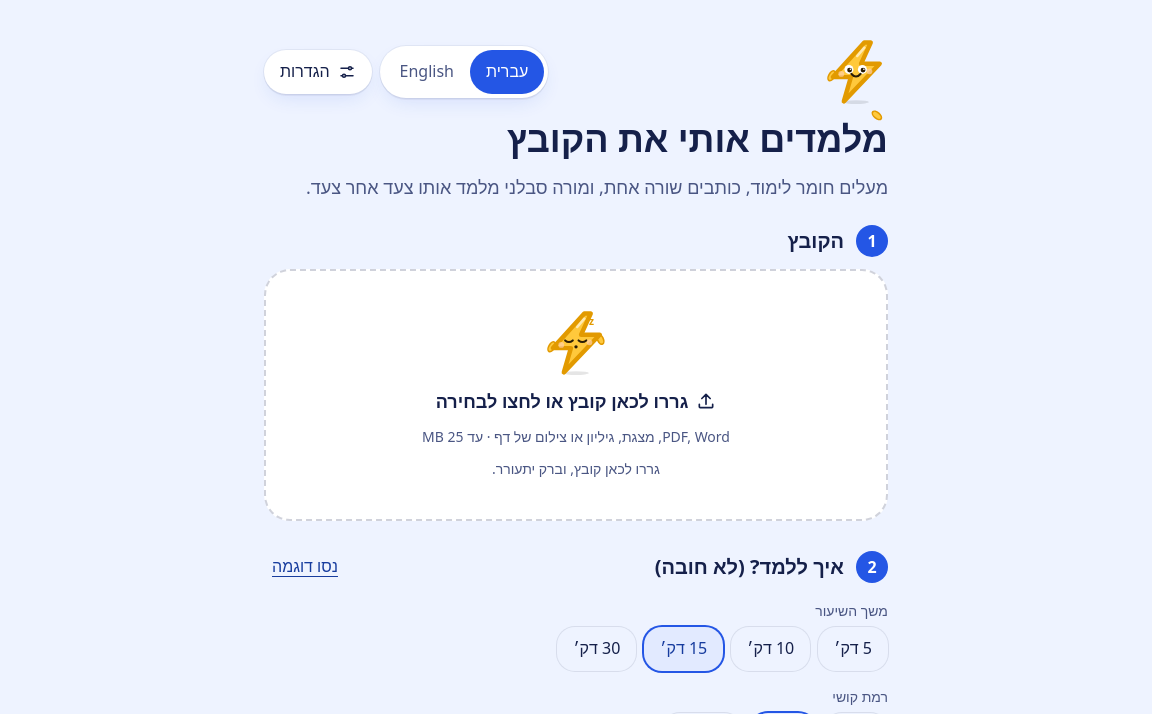
Test case: the settings panel has the toggle too
Click the button "הגדרות": (318, 72) [264,50,372,94]
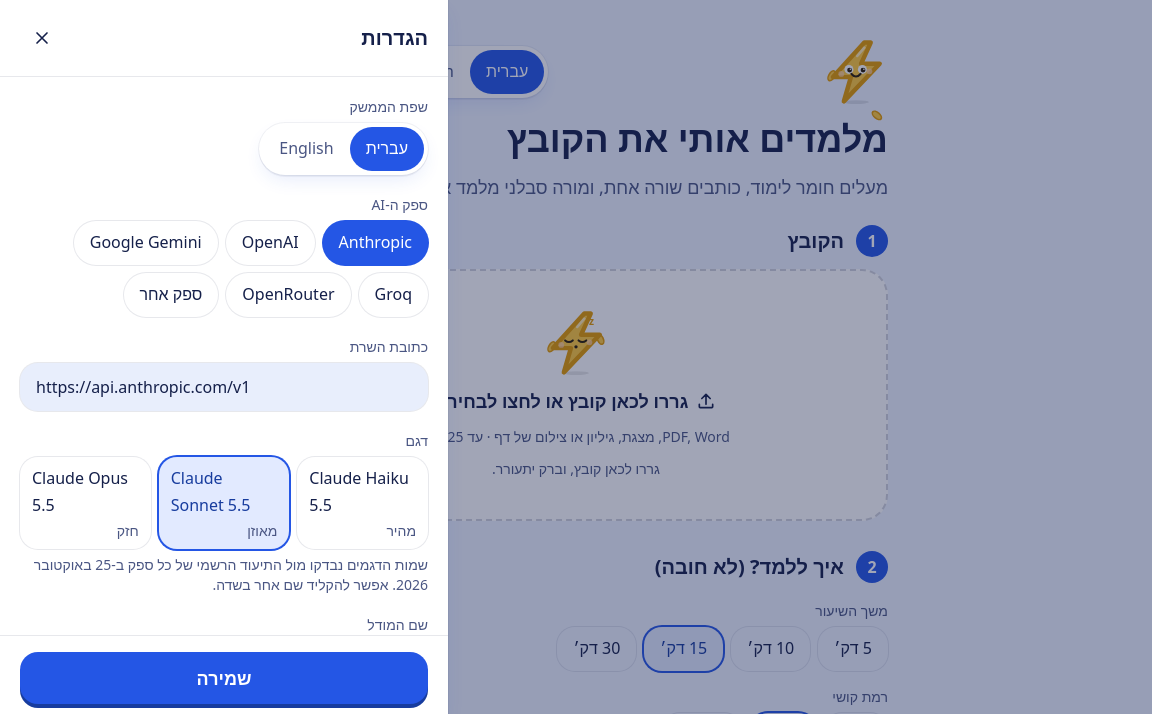
Check: the element named "שפת הממשק" is shown, box [259,123,428,175]
